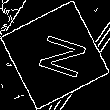N_W: (25, 28, 85, 82)
